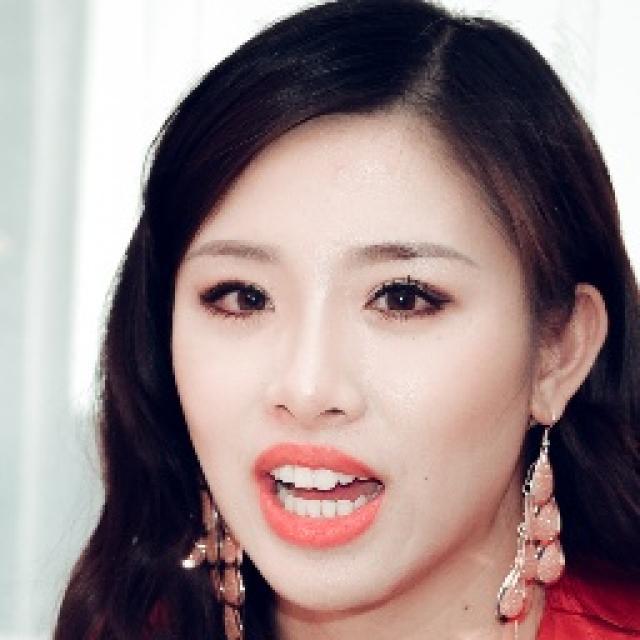earlobe: (528, 281, 608, 426)
